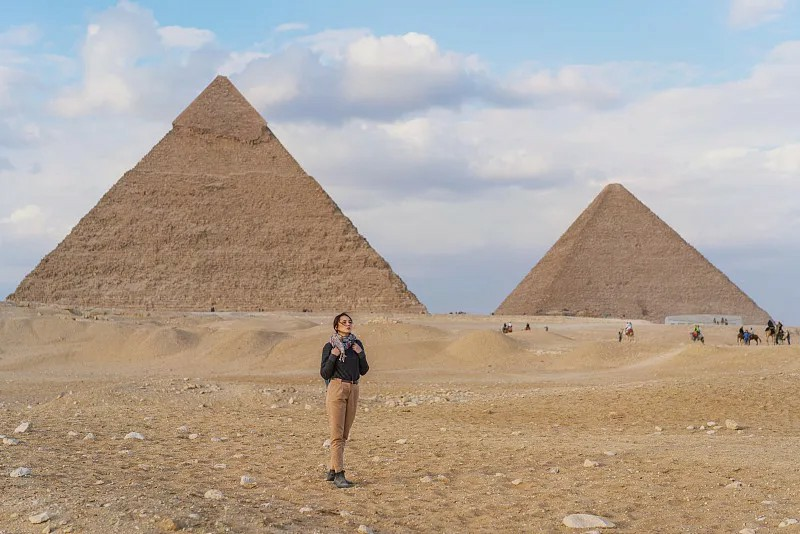Pyramid: (7, 74, 430, 314), (493, 183, 776, 323)
